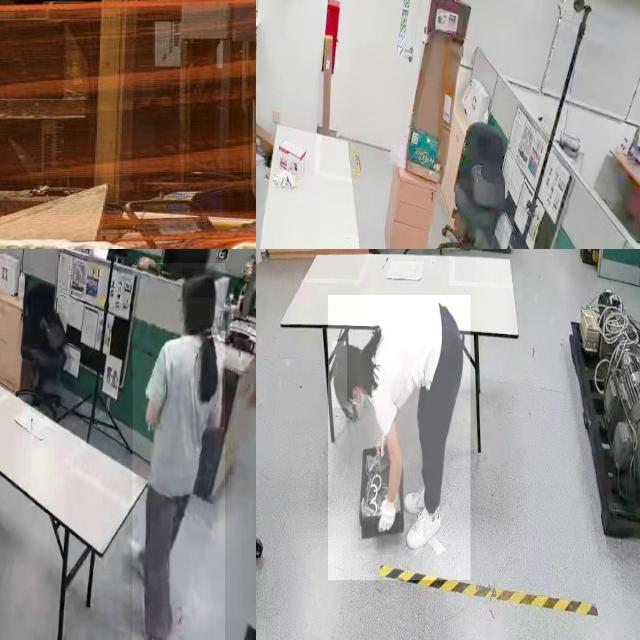hand_glove: (375, 490, 399, 536)
head_nohelmet: (332, 341, 348, 409), (182, 268, 216, 298)
person: (328, 295, 471, 581), (132, 262, 225, 640)
shoes: (406, 504, 442, 550), (404, 480, 439, 514), (128, 535, 158, 574), (143, 607, 168, 640)
